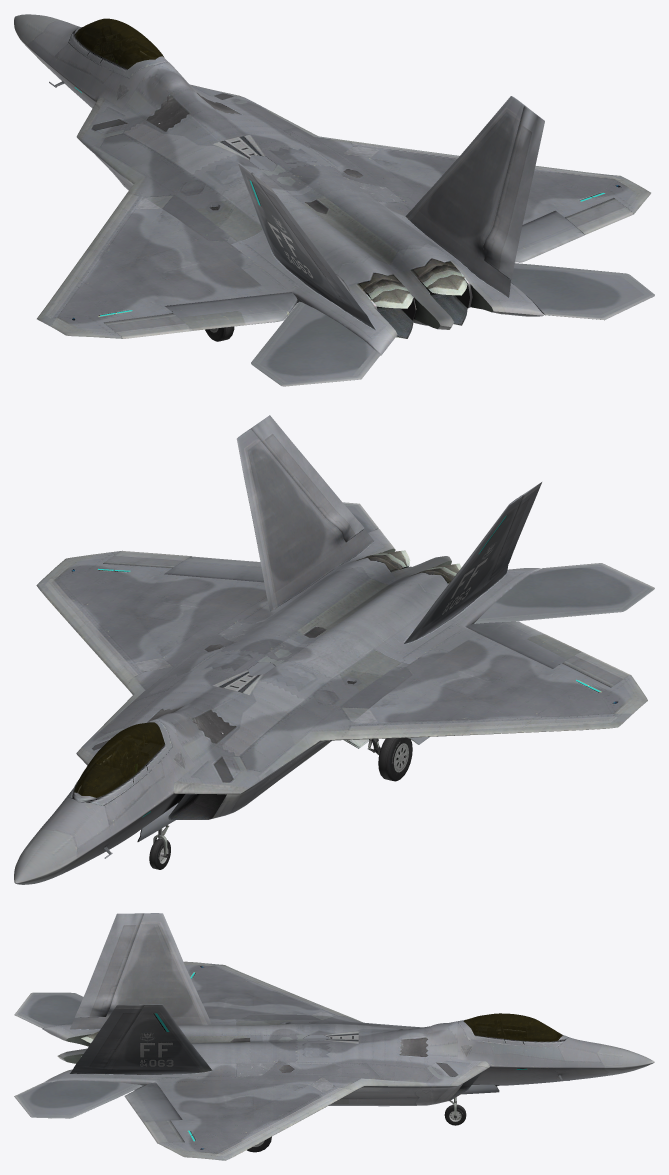
3 views of the same model, one above another, from view 1: azimuth 30°, elevation 25°; view 2: azimuth 150°, elevation 25°; view 3: azimuth 270°, elevation 25° (orthographic). The views are drawn at different scales.
Parts seen in each view (by area): view 1: bodyshell_4, elevator_l_9, wing_r.001_38, wing_r_6, rudder.001_37, wingflap_l_27, chassis_8, window_lf_35, break_extra_1_26, wingflap_r_30, rudder_18, aileron_l_25 (+4 smaller); view 2: bodyshell_4, wing_r.001_38, wing_r_6, elevator_l_9, break_extra_1_26, chassis_8, window_lf_35, rudder.001_37, break_extra_6_28, wingflap_l_27, door_dside_f_14, wingflap_r_30 (+4 smaller); view 3: bodyshell_4, wing_r_6, elevator_l_9, wing_r.001_38, rudder_18, window_lf_35, break_extra_6_28, rudder.001_37, wingflap_r_30, chassis_8, door_dside_f_14, break_extra_1_26 (+3 smaller).
Part boxes in pixels (<box>): bodyshell_4: <box>14,14,604,355</box>; elevator_l_9: <box>251,263,654,386</box>; wing_r.001_38: <box>50,196,270,338</box>; wing_r_6: <box>352,145,650,224</box>; rudder.001_37: <box>483,106,544,279</box>; wingflap_l_27: <box>165,292,298,330</box>; chassis_8: <box>68,26,276,212</box>; window_lf_35: <box>75,18,164,68</box>; break_extra_1_26: <box>37,191,141,325</box>; wingflap_r_30: <box>515,211,584,262</box>; rudder_18: <box>251,172,365,314</box>; aileron_l_25: <box>104,313,192,338</box>; bodyshell_4: <box>14,429,600,884</box>; wing_r.001_38: <box>350,634,647,724</box>; wing_r_6: <box>50,550,264,673</box>; elevator_l_9: <box>343,502,654,623</box>; break_extra_1_26: <box>338,713,631,740</box>; chassis_8: <box>78,662,361,805</box>; window_lf_35: <box>74,722,164,797</box>; rudder.001_37: <box>250,415,364,541</box>; break_extra_6_28: <box>36,572,141,687</box>; wingflap_l_27: <box>466,621,581,668</box>; door_dside_f_14: <box>68,721,172,805</box>; wingflap_r_30: <box>164,556,263,582</box>; bodyshell_4: <box>42,913,654,1141</box>; wing_r_6: <box>158,1084,336,1158</box>; elevator_l_9: <box>14,992,143,1118</box>; wing_r.001_38: <box>183,961,336,1016</box>; rudder_18: <box>74,913,144,1017</box>; window_lf_35: <box>463,1013,562,1041</box>; break_extra_6_28: <box>206,1086,355,1160</box>; rudder.001_37: <box>75,1004,144,1067</box>; wingflap_r_30: <box>124,1083,182,1122</box>; chassis_8: <box>279,1019,557,1040</box>; door_dside_f_14: <box>458,1019,568,1047</box>; break_extra_1_26: <box>207,963,351,1017</box>.
Size of what is drawn, in the model's own units: 13.66 by 5.39 by 18.91.
Materials: 28 (27 with a texture image).
